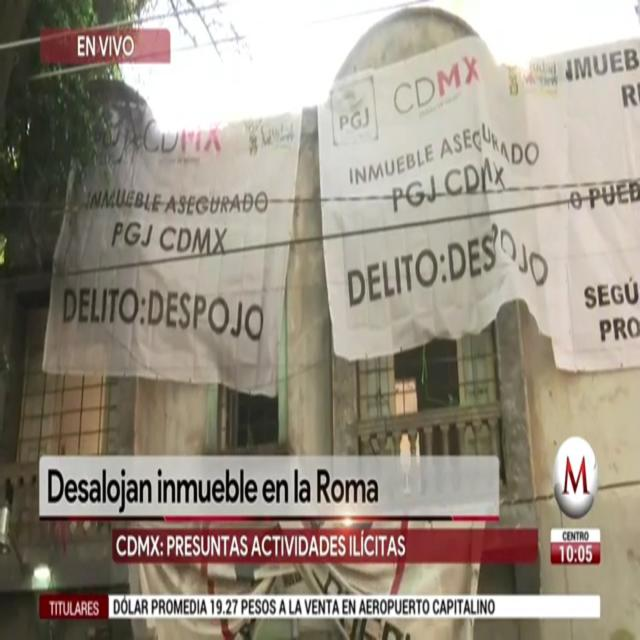stamps: (320, 29, 638, 364), (41, 115, 300, 392)
